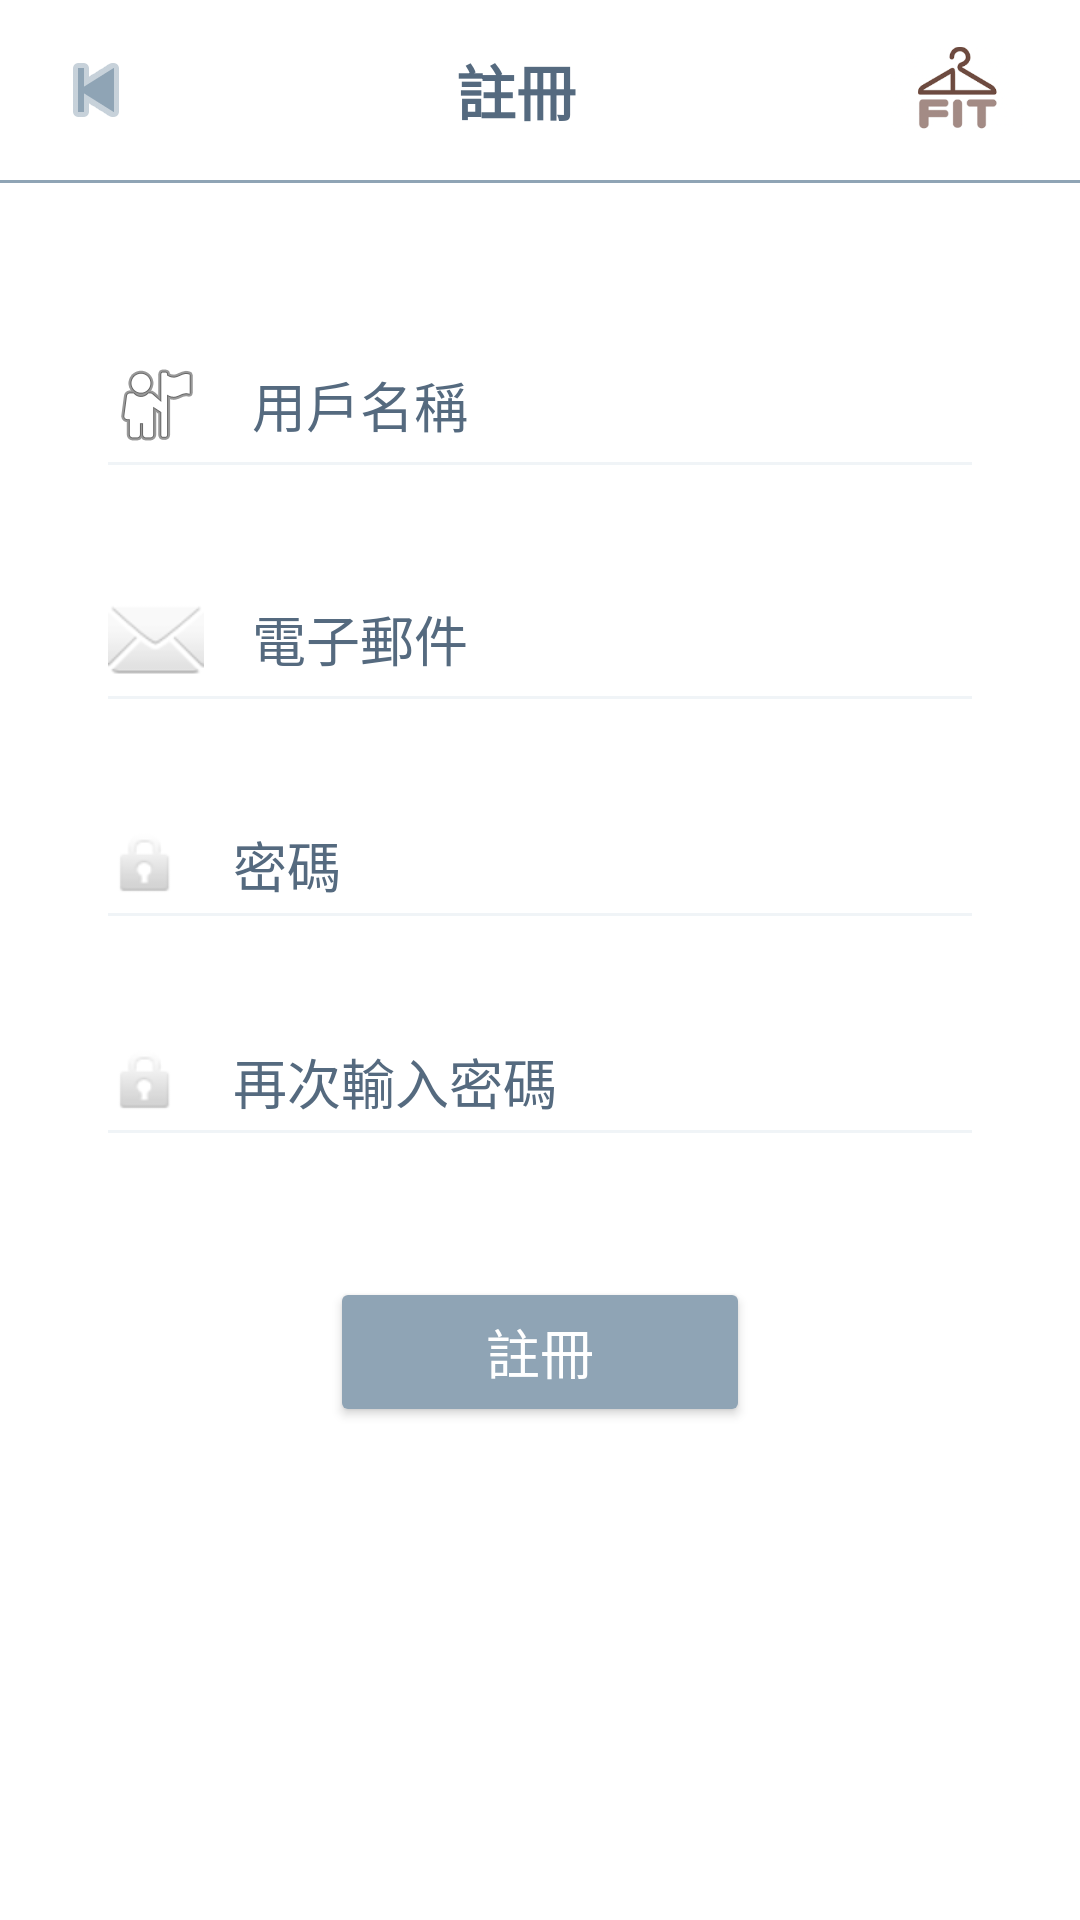

Screen size 1080w x 1920h. Icon name, then its box in pixels as box=[x1, y1, x2, y2]:
previous: box=[73, 63, 119, 117]
